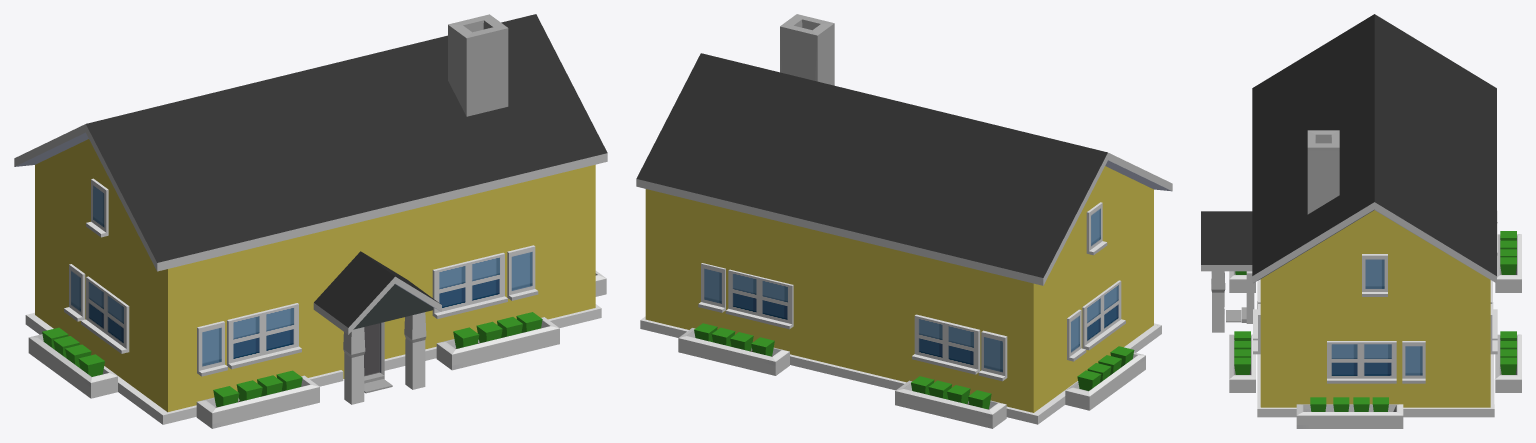
File: Suburb House 4.fbx
3 views of the same model, side by side, from view 1: azimuth 30°, elevation 25°; view 2: azimuth 150°, elevation 25°; view 3: azimuth 270°, elevation 25° (orthographic). The views are drawn at different scales.
Visible parts, largest first — view 1: Suburb House 4; view 2: Suburb House 4; view 3: Suburb House 4.
Boxes of the visible parts, box(x1,y1,x2,y2) form: Suburb House 4: box(14, 14, 607, 428); Suburb House 4: box(636, 14, 1172, 428); Suburb House 4: box(1201, 14, 1521, 428).
Bounding box in the file's own units: 6.86 × 3.77 × 4.52.
